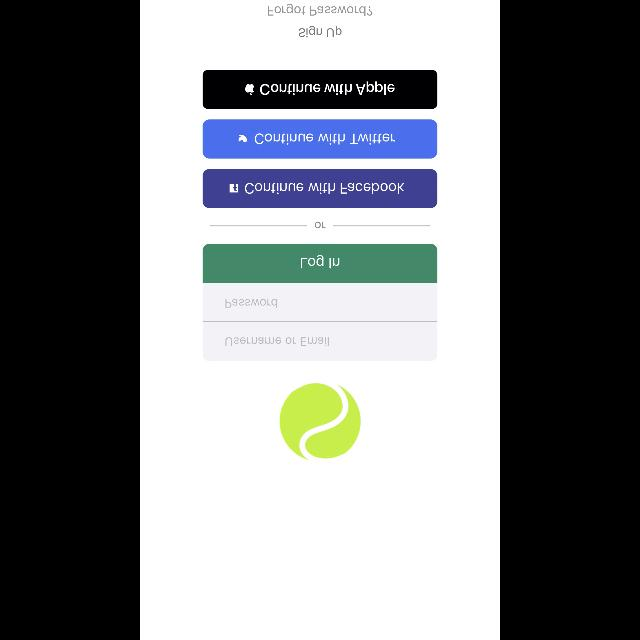image: (281, 383, 361, 459)
input: (203, 321, 437, 361), (203, 283, 437, 321)
text: (268, 4, 372, 16), (225, 338, 328, 347), (298, 26, 342, 38), (225, 300, 277, 308), (315, 222, 325, 228)
textbutton: (203, 244, 437, 282), (203, 170, 437, 208), (203, 120, 437, 158), (203, 70, 437, 108)
